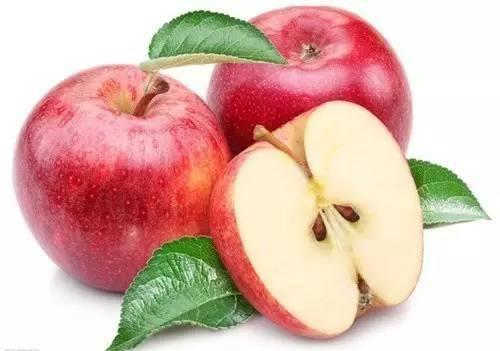apple: (10, 65, 231, 292), (206, 4, 413, 158)
